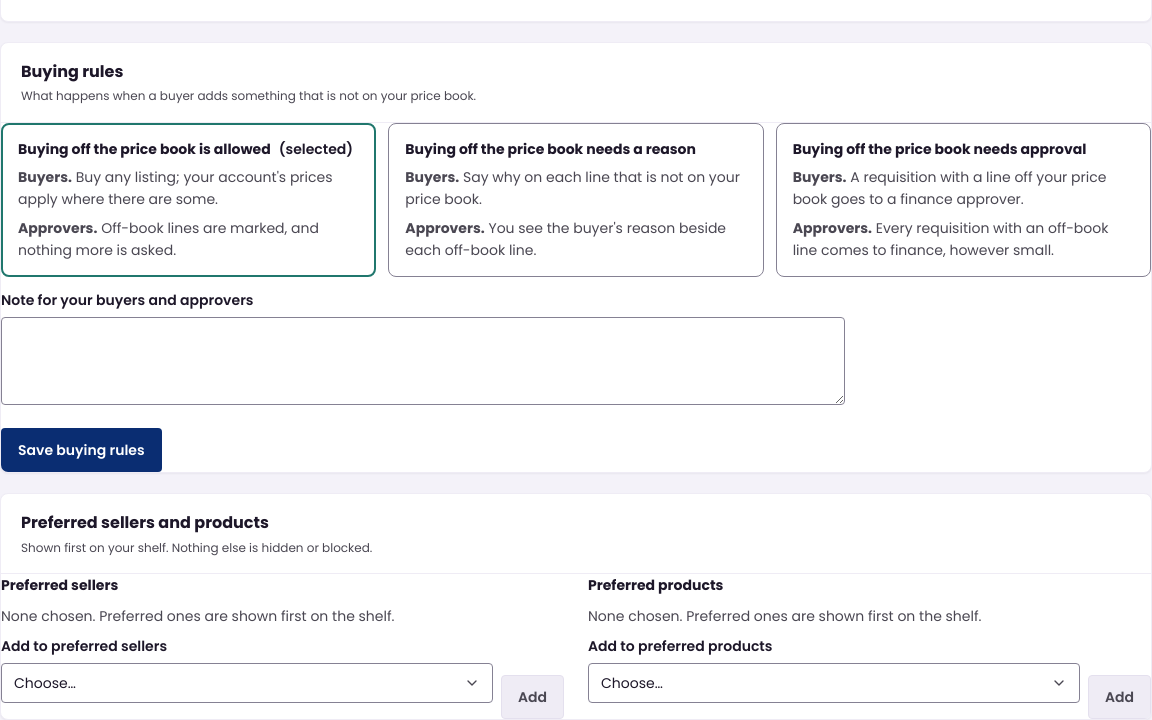
EnterprisePriceBook › shows the empty state and the database sentence when a save is refused
(page scrolled)
Click the button "Save buying rules": (81, 450) [1,428,162,472]
(page scrolled)
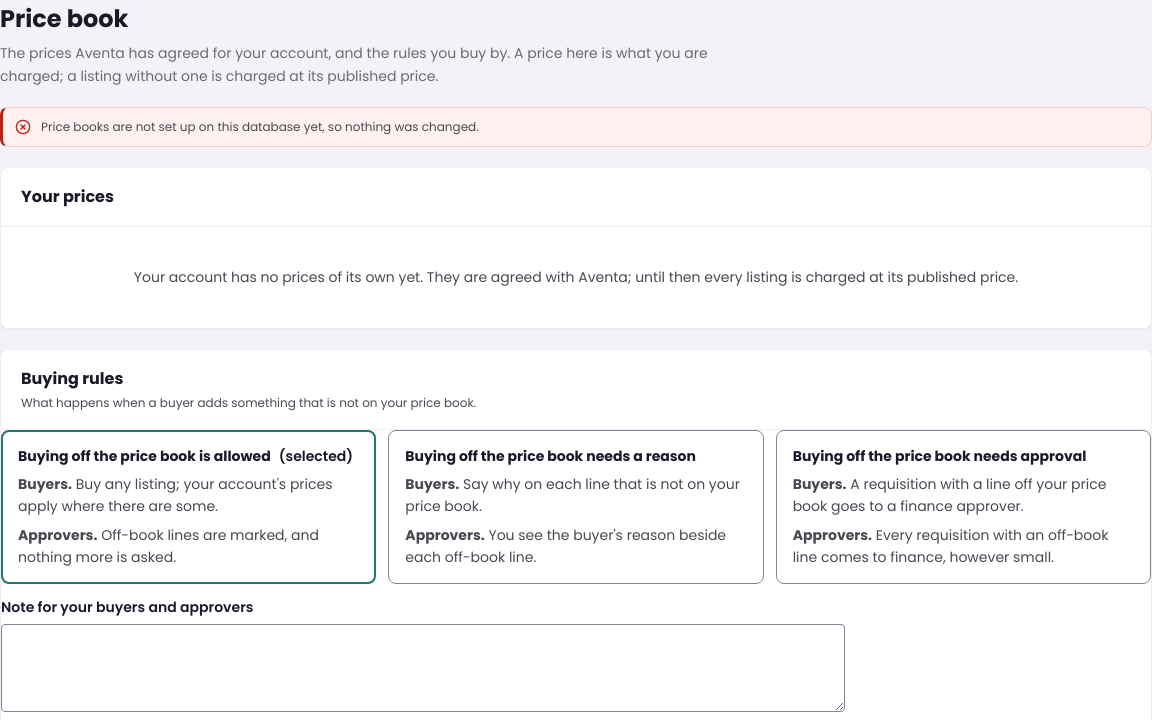
Expected: the text "not set up on this database" is shown, [41,118,479,135]
